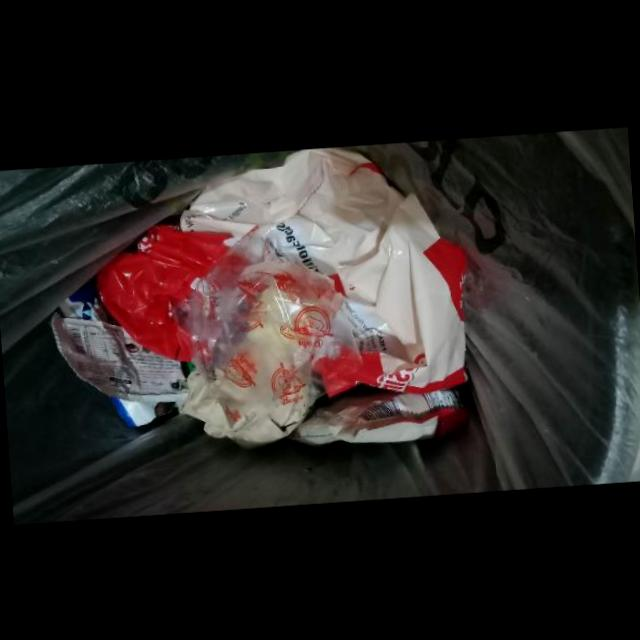bao_bi_thuc_pham: (187, 260, 360, 430), (52, 316, 189, 402), (291, 388, 468, 444)
giay: (181, 370, 318, 449)
tui_ni_long: (178, 148, 468, 393)
